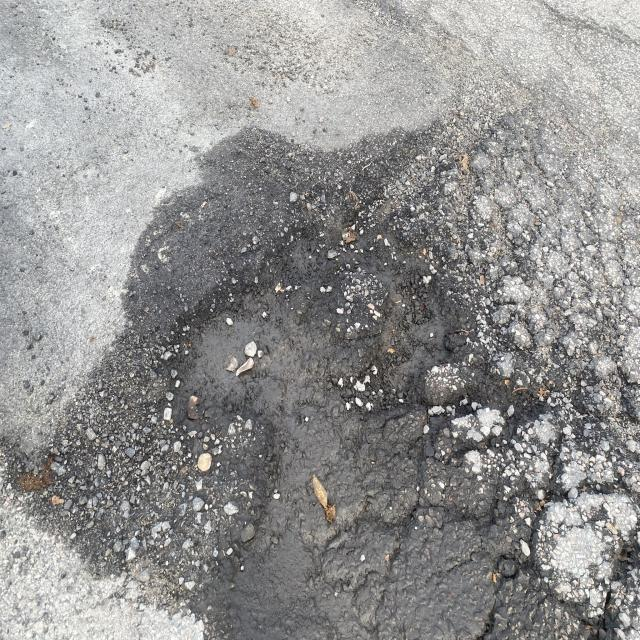Pothole: (304, 234, 540, 590)
